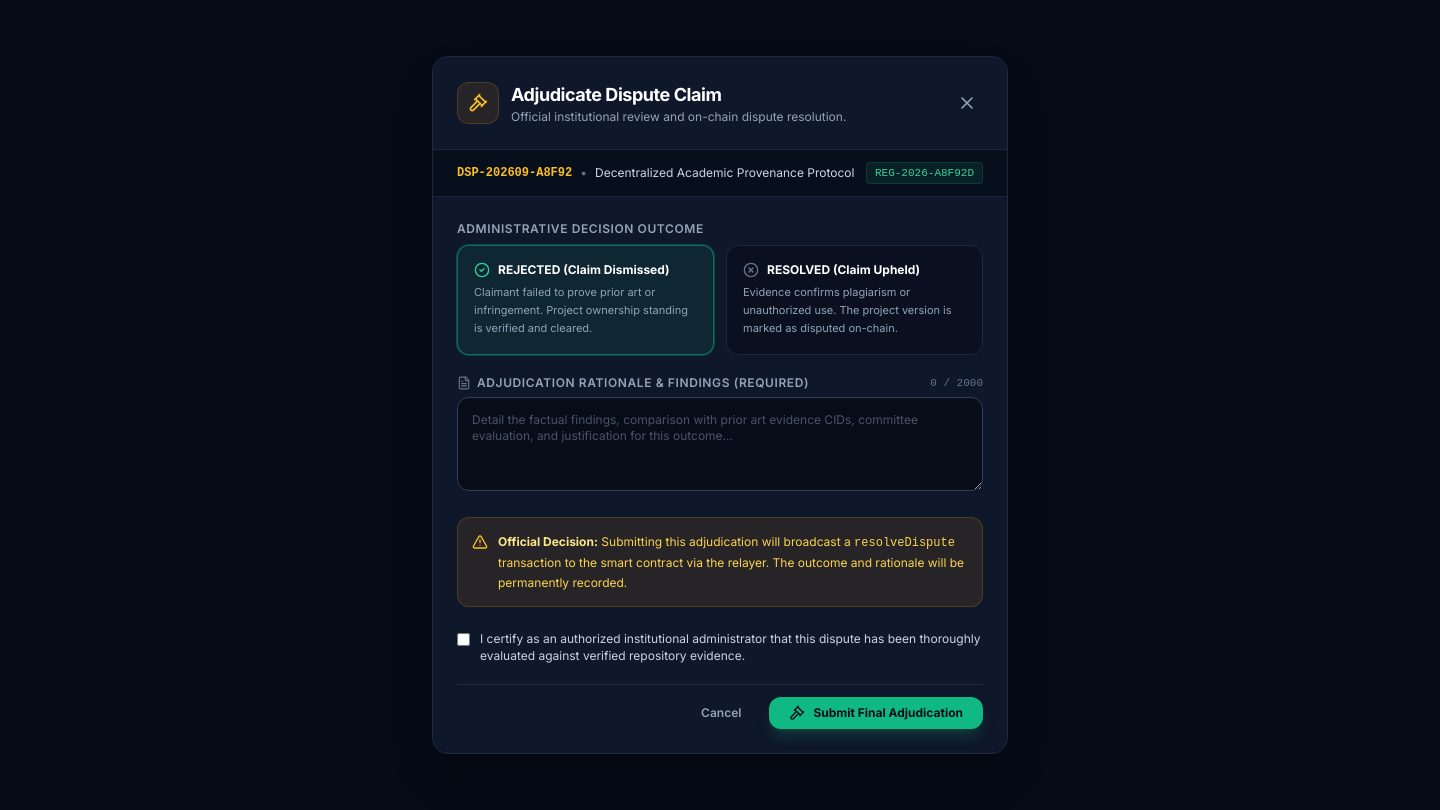
Frontend Disputes & Resolution Module Tests › Admin Dispute Adjudication Workflow › opens AdminAdjudicationModal and enforces validation on notes and confirmation
expect the heading "Adjudicate Dispute Claim" is shown: met, box top-left (511, 84), bottom-right (721, 105)
Submit without entering notes
Click the button "Submit Final Adjudication": (876, 713) top-left (769, 697), bottom-right (983, 729)
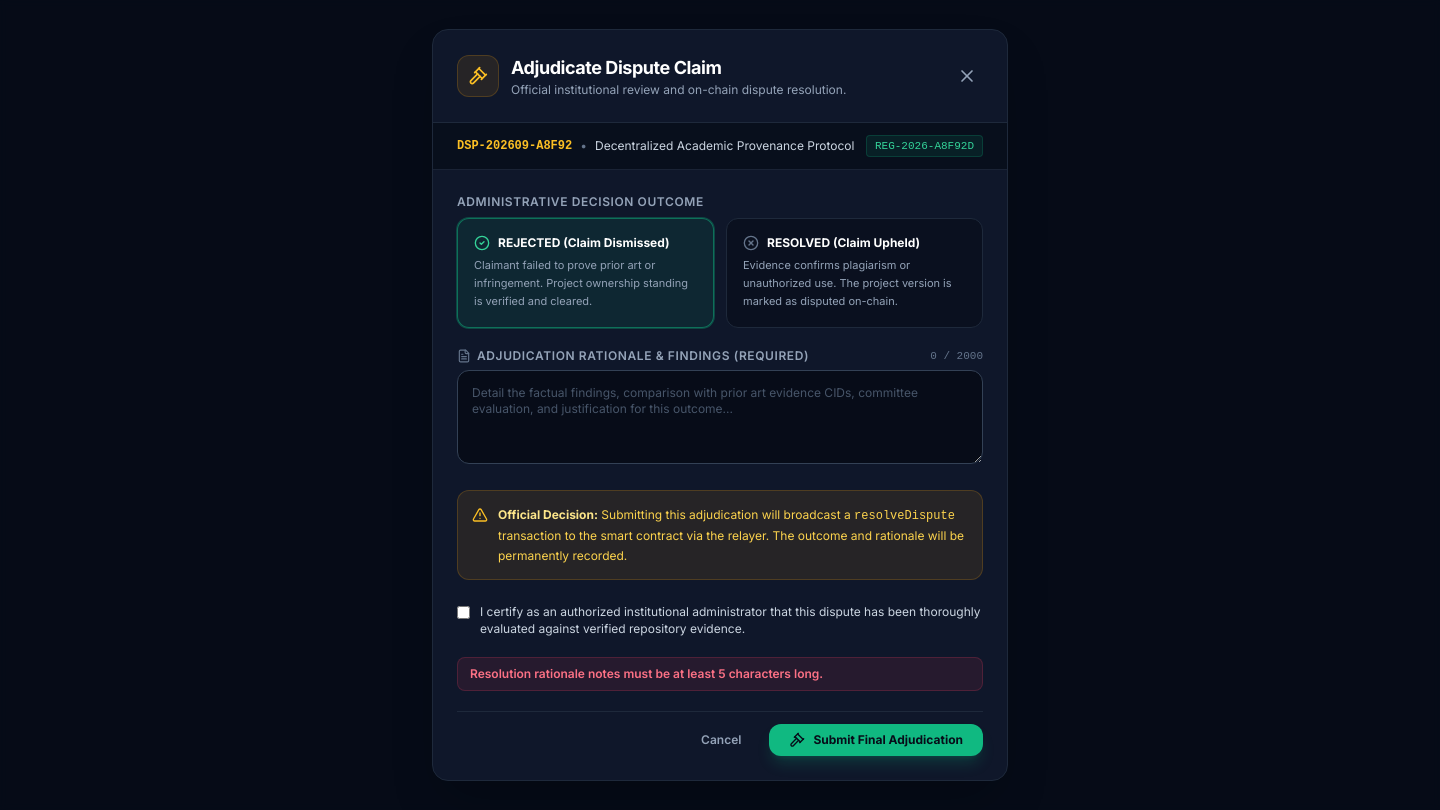
expect the text "Resolution rationale notes must be at least 5 characters long." is shown: met, box top-left (457, 657), bottom-right (983, 691)
Enter notes but do not check confirmation
Replace the text in the text box with placeholder "Detail the factual findings" with "Claimant provided incomplete evidence of prior art publication.": (720, 417) top-left (457, 370), bottom-right (983, 464)
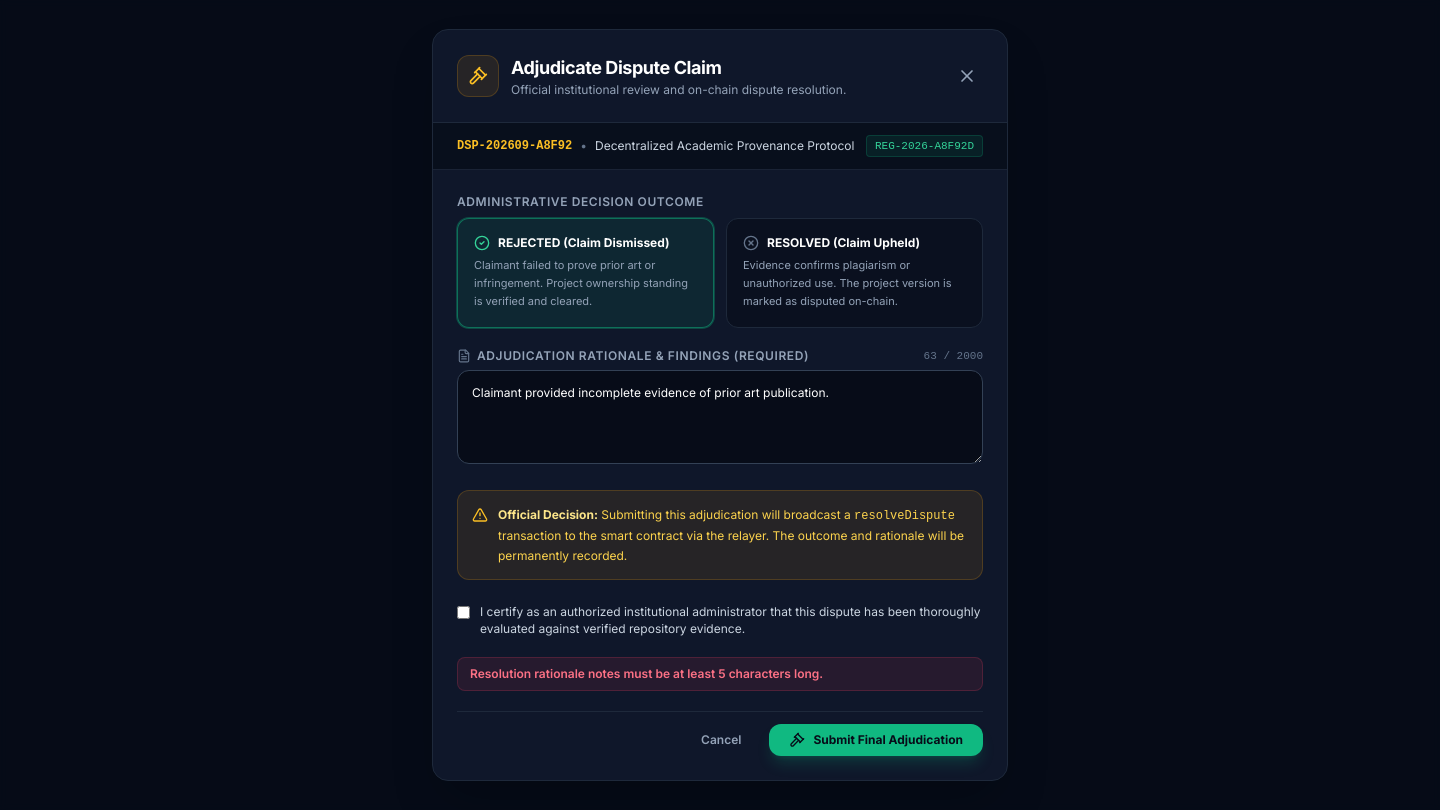
Click the button "Submit Final Adjudication": (876, 740) top-left (769, 724), bottom-right (983, 756)
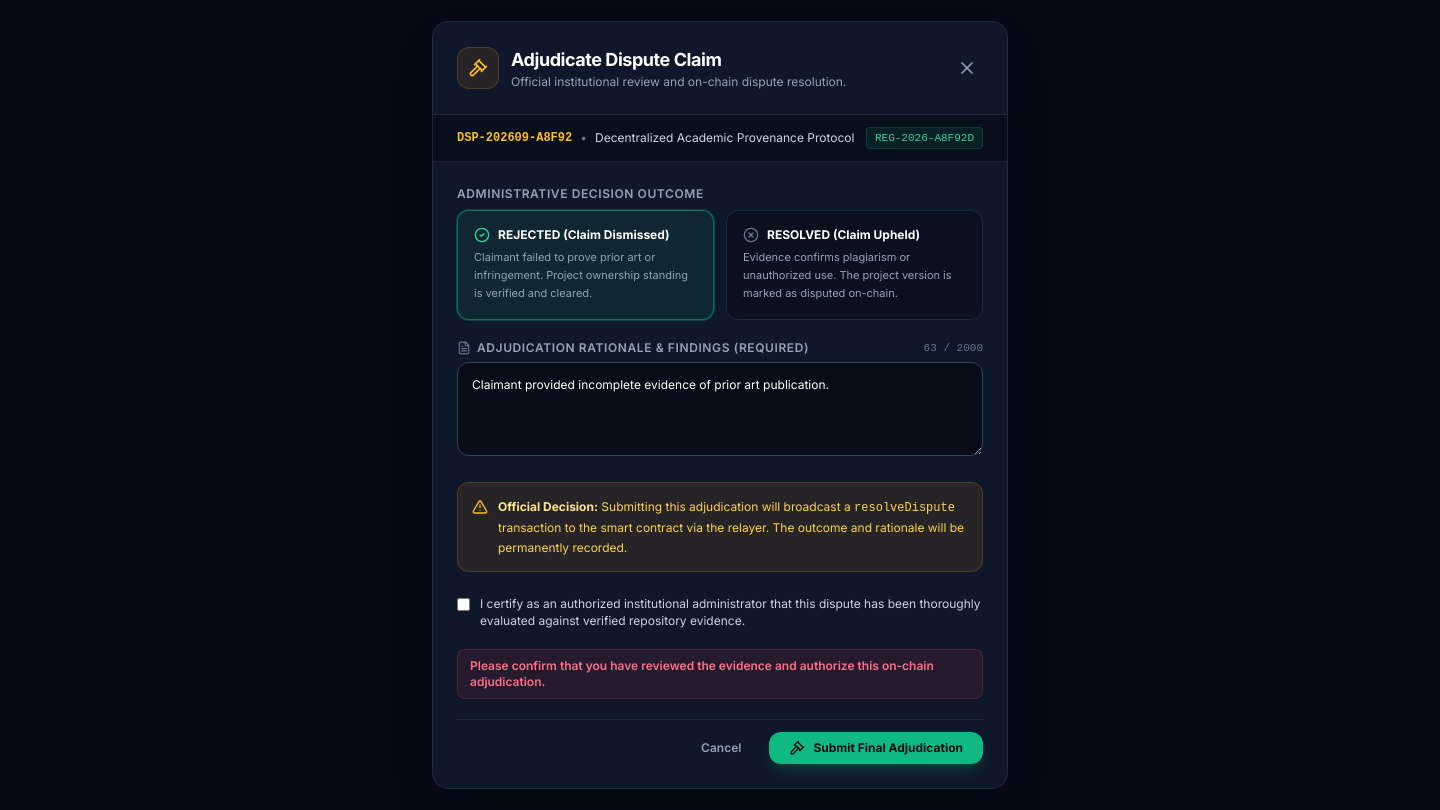
expect the text "Please confirm that you have reviewed the evidence and authorize this on-chain adjudication" is shown: met, box top-left (470, 658), bottom-right (934, 689)
